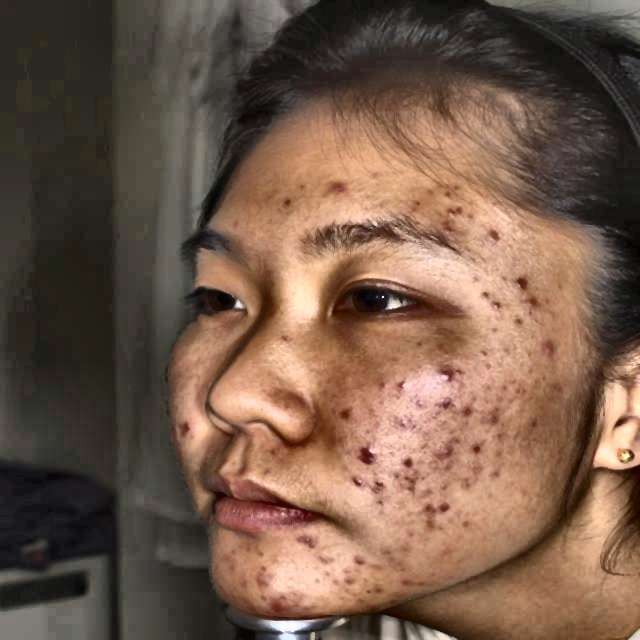papule: (437, 188, 479, 220), (423, 390, 464, 421), (480, 404, 520, 434), (387, 448, 428, 475), (292, 526, 331, 553), (165, 416, 198, 446), (432, 495, 467, 523), (382, 370, 419, 396), (218, 540, 246, 574), (254, 591, 295, 613), (506, 266, 538, 294), (369, 474, 402, 501), (344, 445, 386, 465), (429, 364, 456, 394), (538, 334, 579, 353), (252, 560, 278, 589), (481, 222, 514, 244), (347, 552, 377, 574), (320, 172, 347, 196), (456, 401, 484, 424), (522, 288, 550, 310), (339, 472, 365, 495), (466, 438, 488, 461), (333, 566, 357, 586), (409, 579, 418, 587)
